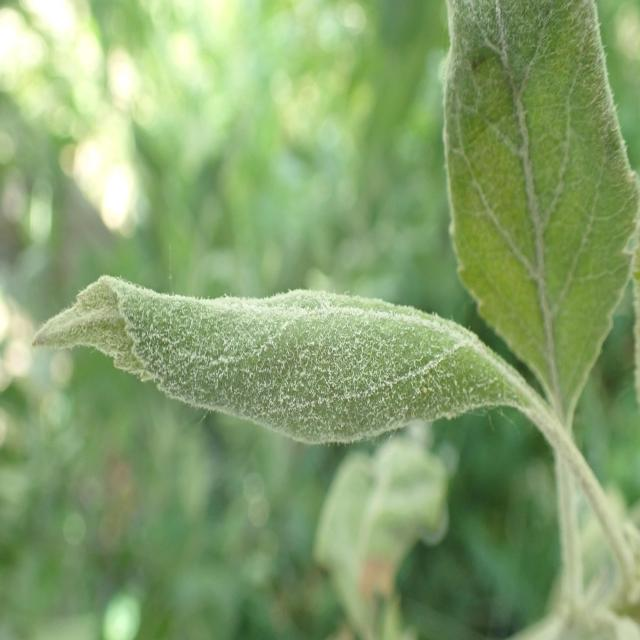Powdery_mildew: (20, 254, 524, 479), (429, 3, 640, 446)
